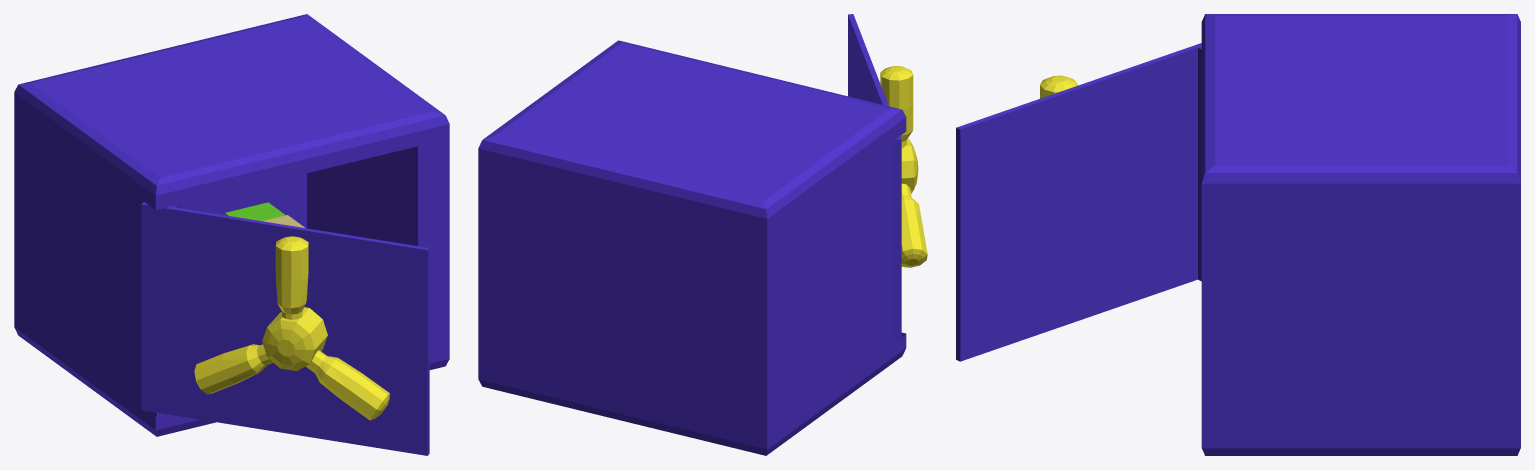
Rendered from Caja-fuerte.glb.
3 views of the same model, side by side, from view 1: azimuth 30°, elevation 25°; view 2: azimuth 150°, elevation 25°; view 3: azimuth 270°, elevation 25° (orthographic). The views are drawn at different scales.
Parts seen in each view (by area): view 1: Box001, Object001_Material #2_0, Cylinder001_Material #3_0, Box032; view 2: Box001, Object001_Material #2_0, Cylinder001_Material #3_0; view 3: Box001, Object001_Material #2_0, Cylinder001_Material #3_0.
Part boxes in pixels (<box>): Box001: <box>14,14,449,436</box>; Object001_Material #2_0: <box>141,202,429,455</box>; Cylinder001_Material #3_0: <box>194,236,389,420</box>; Box032: <box>225,202,304,227</box>; Box001: <box>478,40,906,455</box>; Object001_Material #2_0: <box>848,14,901,342</box>; Cylinder001_Material #3_0: <box>880,66,927,267</box>; Box001: <box>1201,14,1520,455</box>; Object001_Material #2_0: <box>956,43,1201,361</box>; Cylinder001_Material #3_0: <box>1040,75,1077,98</box>.
Size of the model in its own units: 60.99 by 50 by 88.49.
